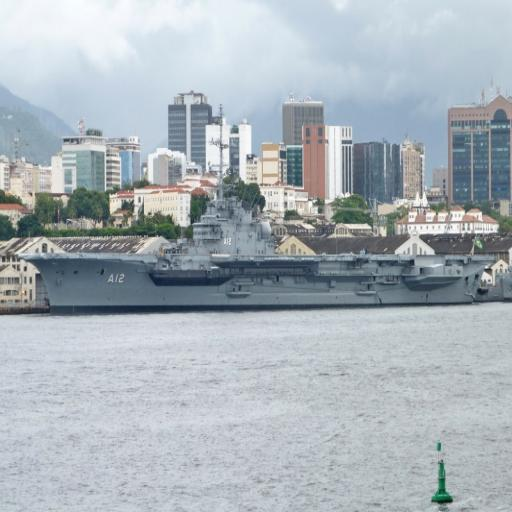Portanaves: (18, 155, 495, 320)
